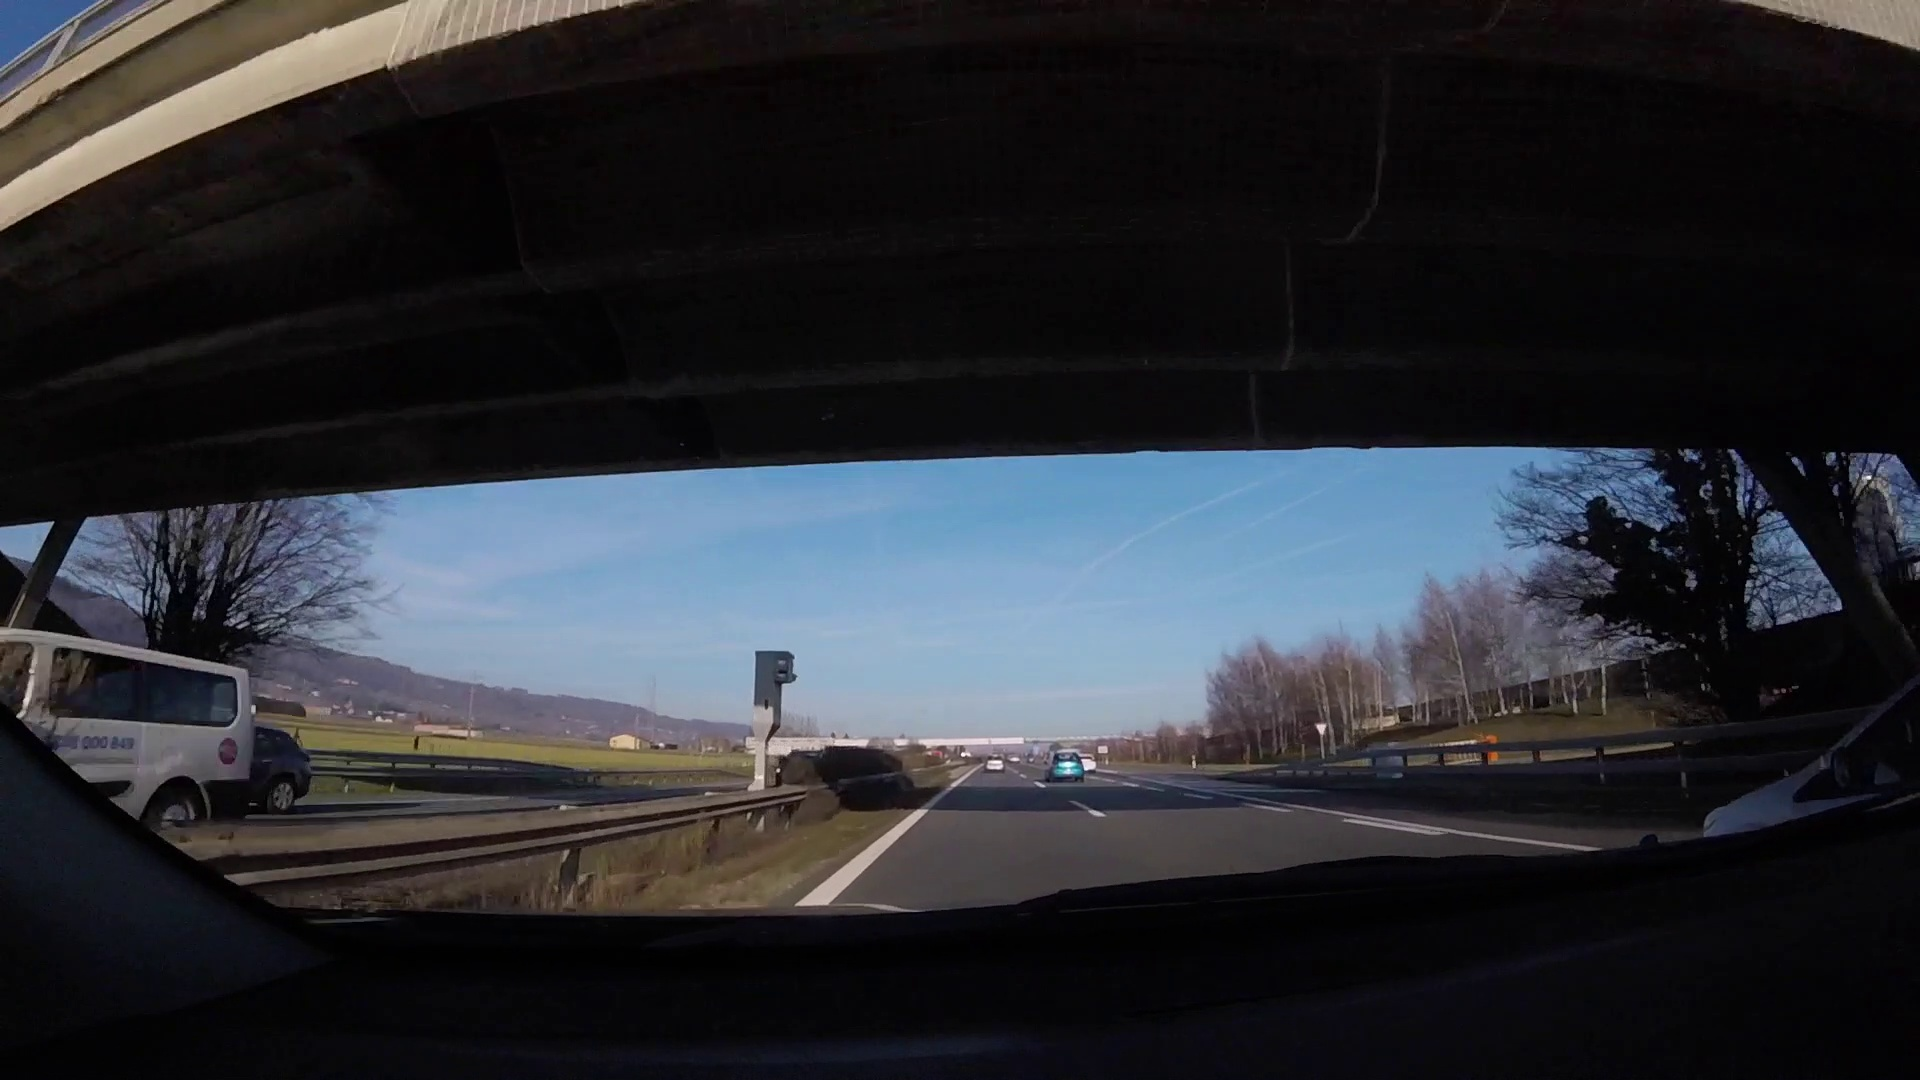radar: (752, 649, 799, 781)
